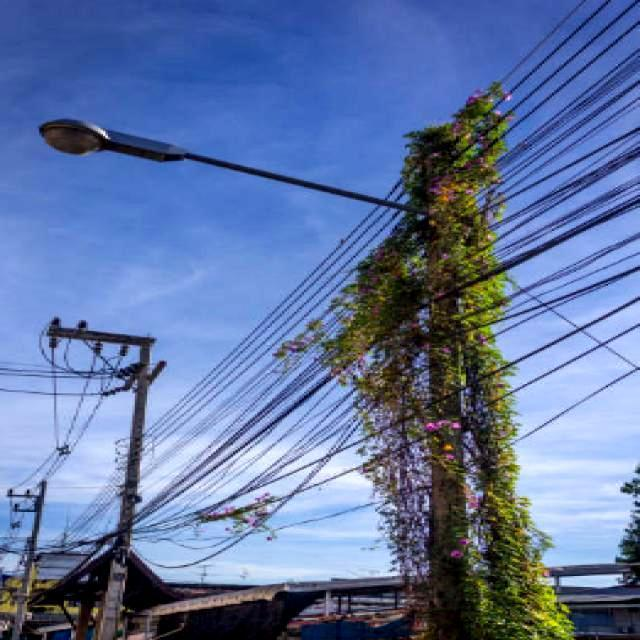critical vegetation: (348, 79, 540, 629)
